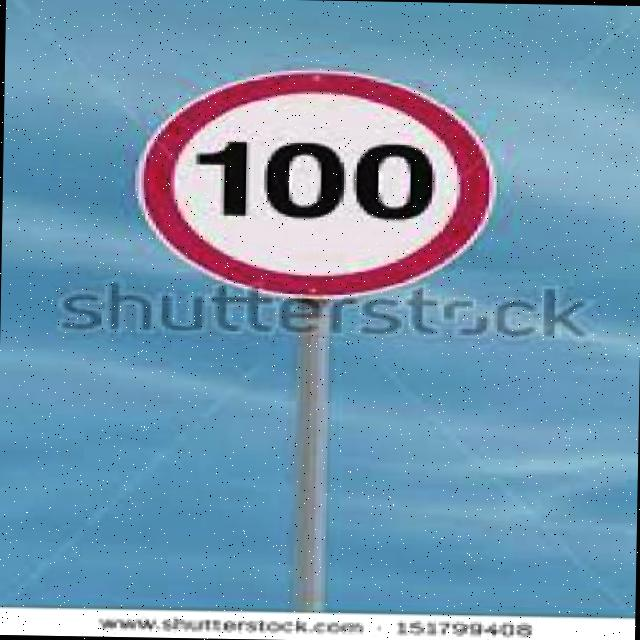Ograniczenie predkosci do 100: (143, 94, 472, 294)
